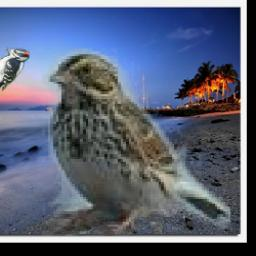Sparrow: (42, 49, 230, 237)
Woodpecker: (0, 47, 30, 96)
